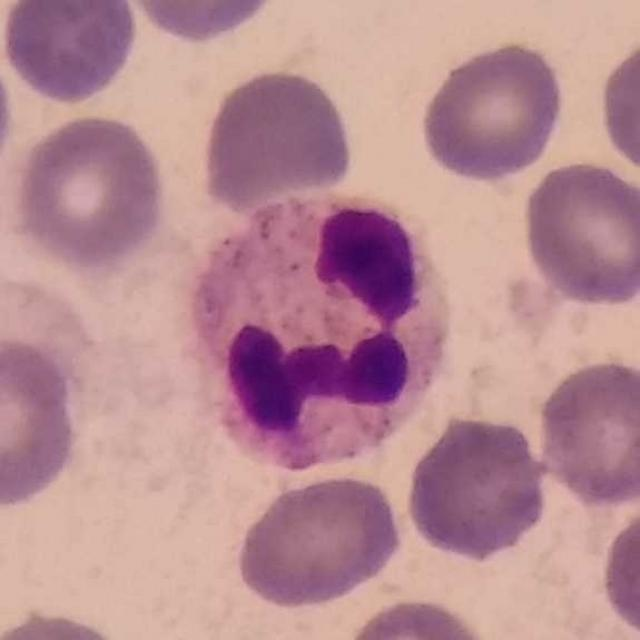Neutrophil: (182, 172, 465, 491)
RBC: (8, 108, 171, 274), (232, 470, 408, 611), (196, 64, 358, 210), (416, 36, 569, 185), (402, 412, 552, 563), (517, 156, 639, 309), (533, 355, 640, 511), (0, 333, 86, 514), (0, 0, 141, 107), (112, 0, 286, 46), (338, 593, 500, 640), (594, 30, 640, 185), (596, 497, 640, 640), (0, 604, 142, 639)
